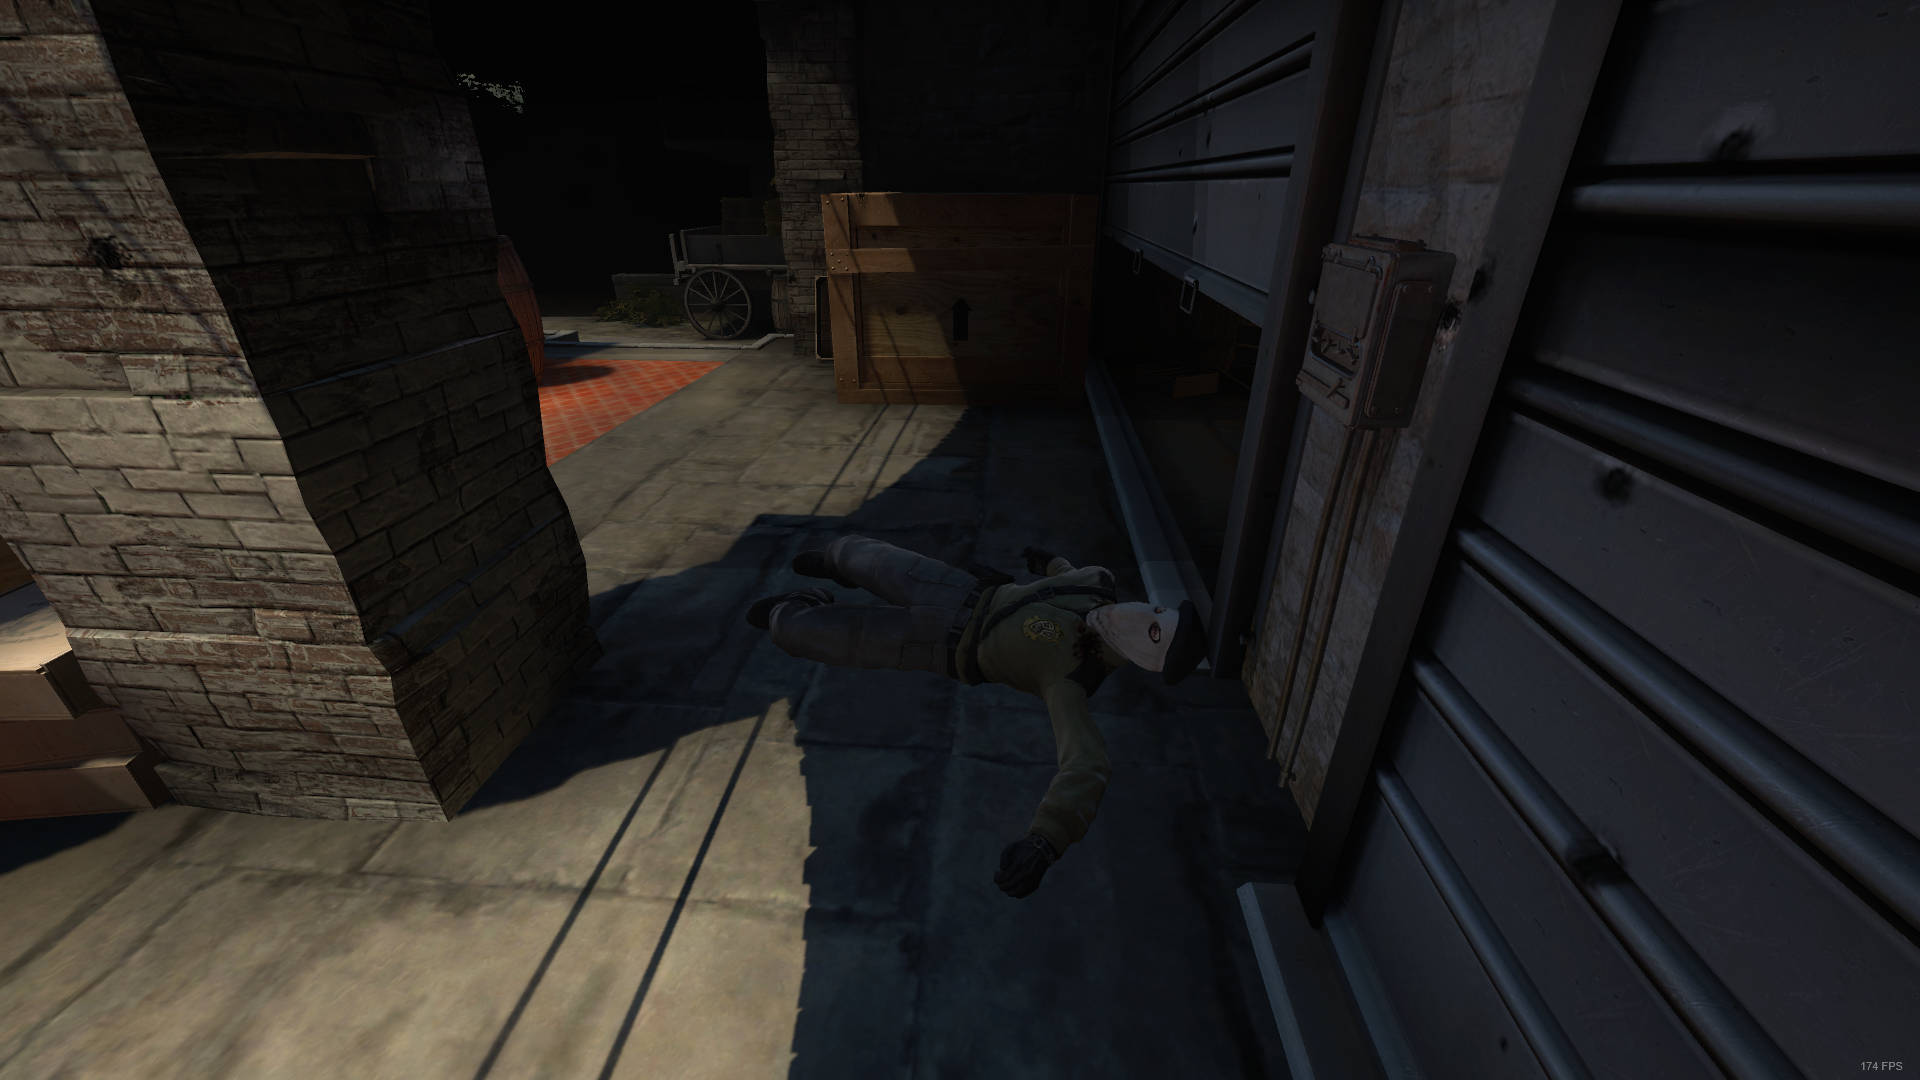t: (745, 535, 1209, 903)
